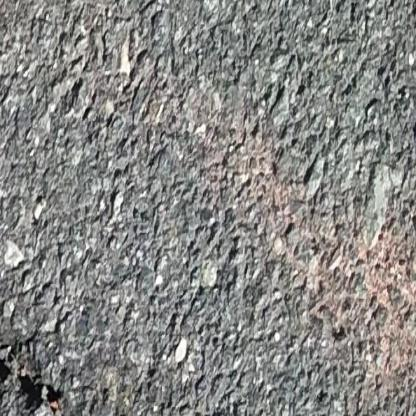Cracks: (0, 343, 104, 416)
